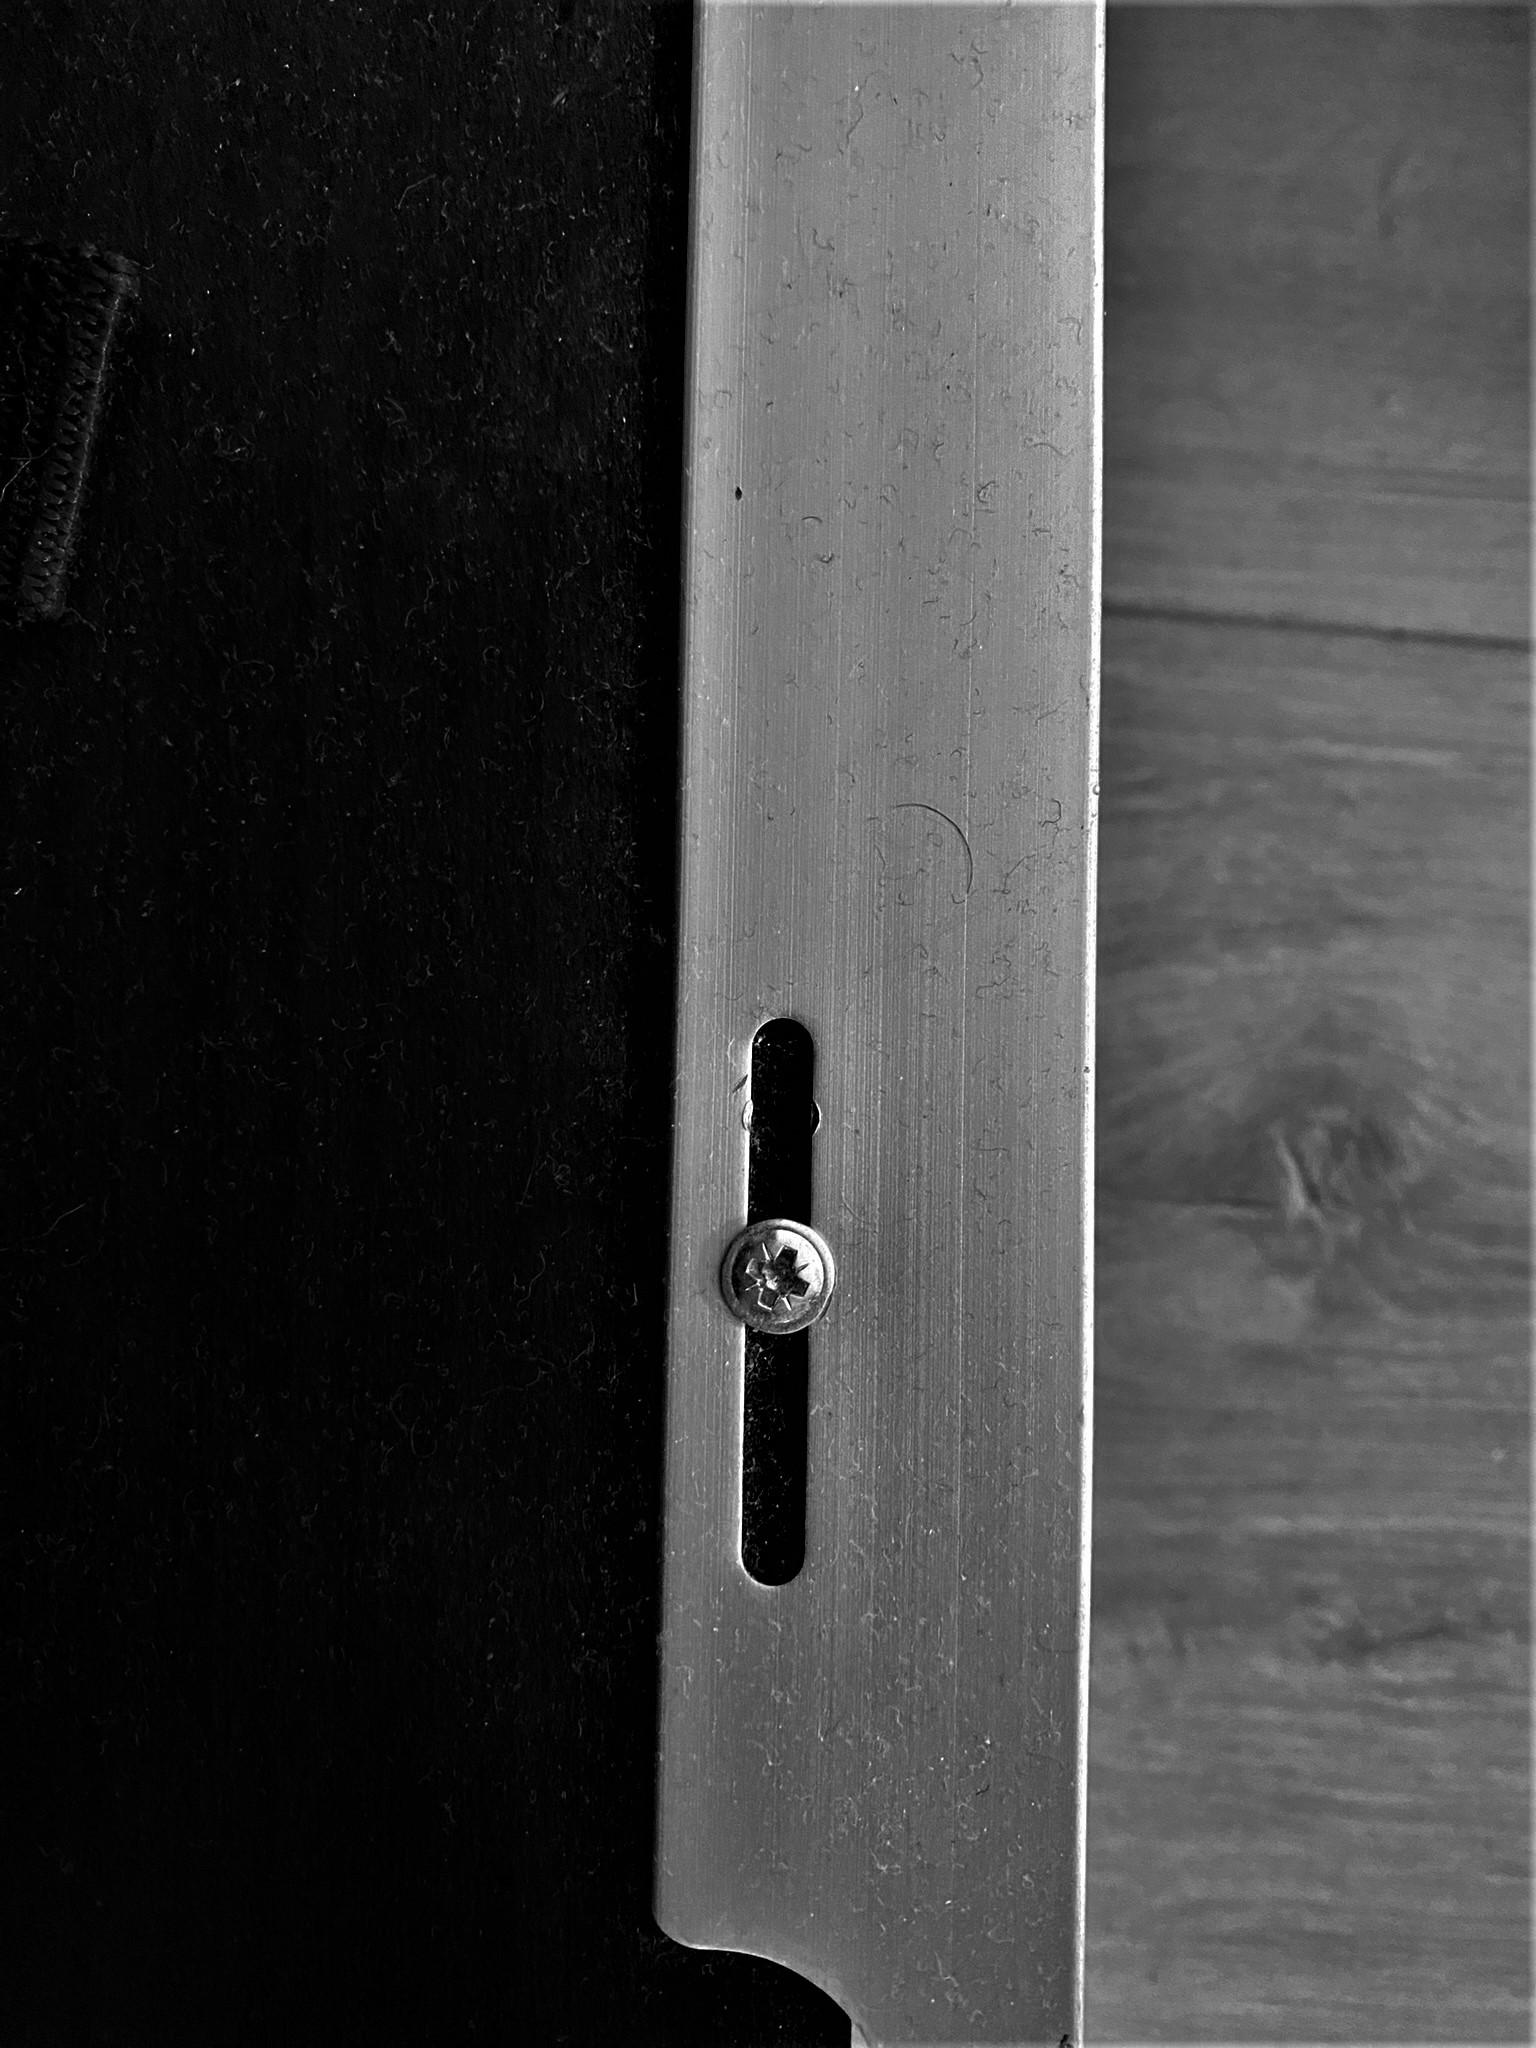PH: (715, 1214, 842, 1340)
